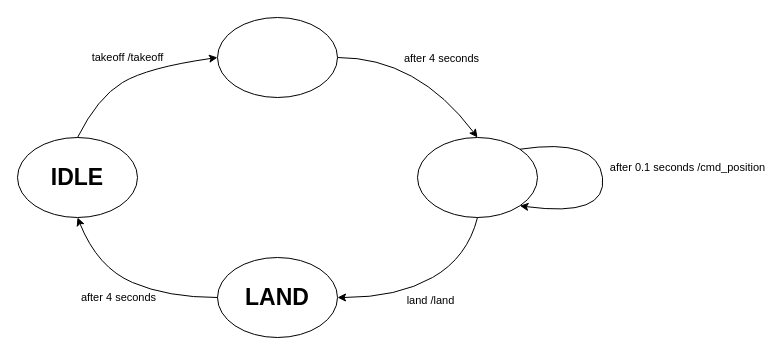
Some shapes in this 783 by 355 pixel diagram are drawn without their labels. The shapes that lost their labels are listed below. From the top down, each one's centre as x and y in pixels, then its label:
pixel 277 57: TAKEOFF
pixel 477 177: TARGET
